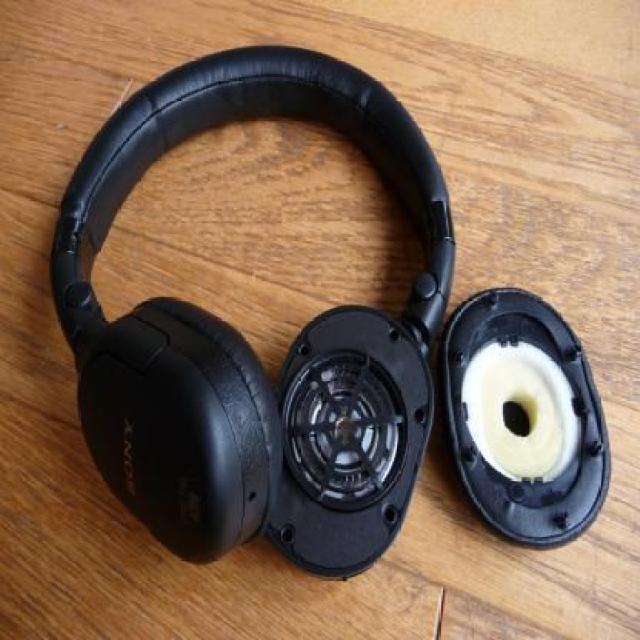earphone: (38, 0, 447, 585)
